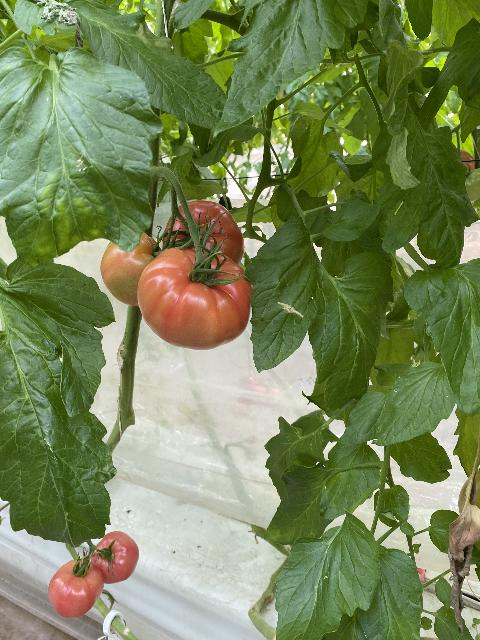b_fully_ripened: (90, 531, 139, 584)
b_half_ripened: (137, 247, 254, 350), (162, 200, 245, 265), (100, 232, 163, 307), (48, 559, 105, 618)
